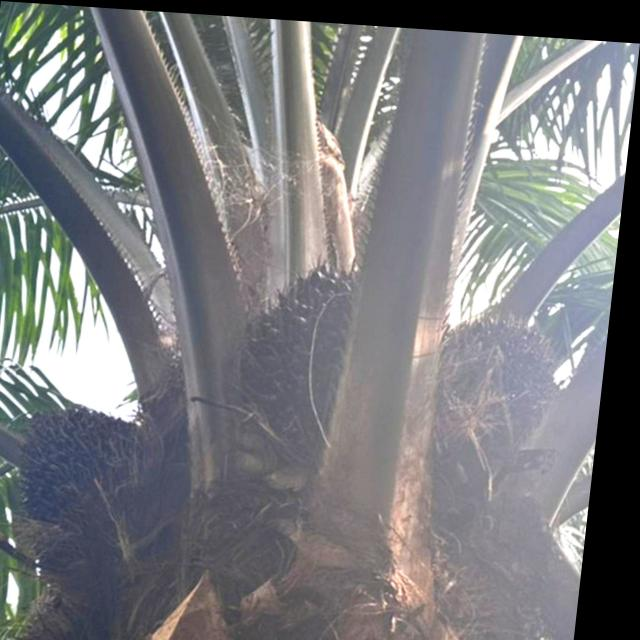ripe: (246, 246, 374, 438)
